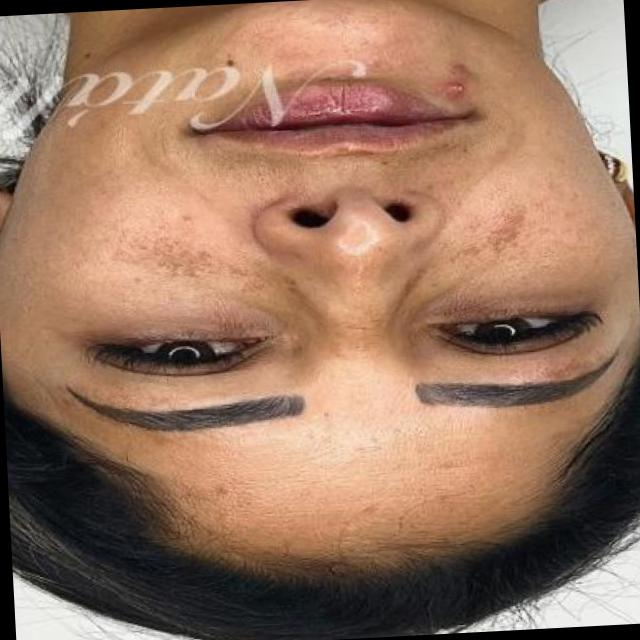melasma: (395, 155, 616, 304), (41, 189, 323, 300)
